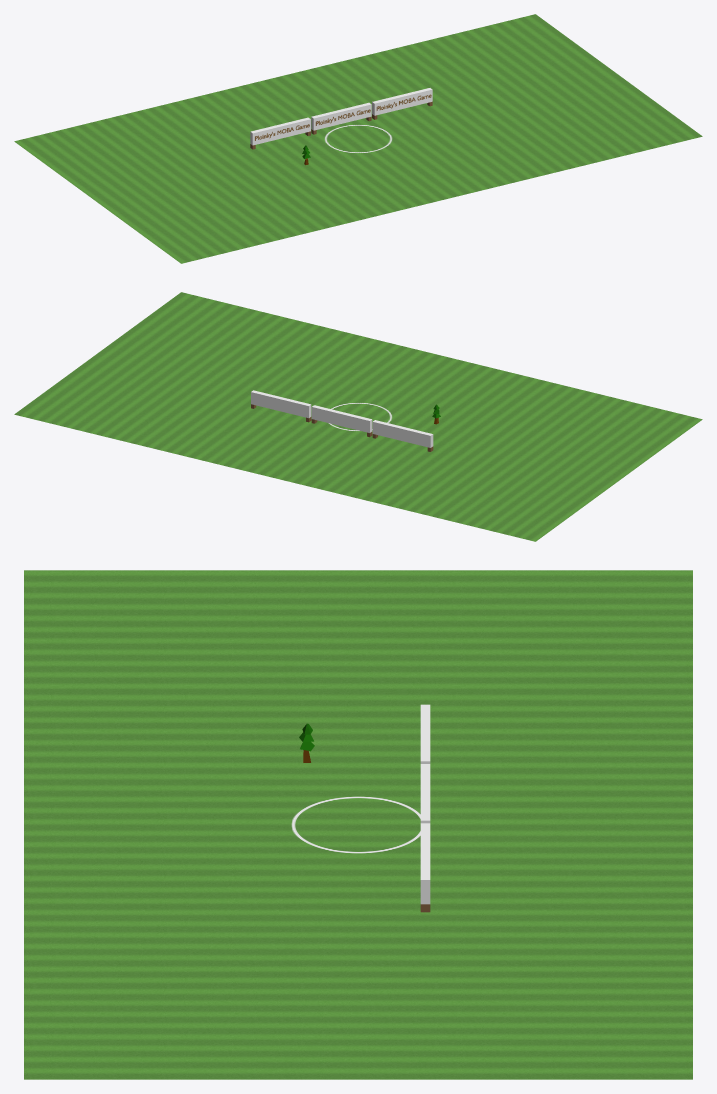
File: map1.glb
3 views of the same model, one above another, from view 1: azimuth 30°, elevation 25°; view 2: azimuth 150°, elevation 25°; view 3: azimuth 270°, elevation 25° (orthographic). The views are drawn at different scales.
Parts seen in each view (by area): view 1: Plane.011, Plane.015, Plane.024, Plane.026, Plane.030, Plane.037, Plane.041, Plane.006, Plane.007, Plane.014, Plane.016, Plane.018 (+36 smaller); view 2: Plane.014, Plane.019, Plane.023, Plane.027, Plane.030, Plane.035, Plane.041, Plane.007, Plane.008, Plane.011, Plane.015, Plane.016 (+36 smaller); view 3: Plane.007, Plane.017, Plane.021, Plane.006, Plane.008, Plane.025, Plane.026, Plane.027, Plane.030, Plane.031, Plane.032, Plane.035 (+34 smaller).
Boxes of the visible parts, bbox=[...] form: Plane.011: bbox=[230, 172, 321, 210]; Plane.015: bbox=[130, 99, 220, 137]; Plane.024: bbox=[496, 140, 586, 178]; Plane.026: bbox=[106, 137, 196, 175]; Plane.030: bbox=[81, 176, 171, 214]; Plane.037: bbox=[520, 102, 610, 140]; Plane.041: bbox=[545, 63, 635, 101]; Plane.006: bbox=[288, 158, 379, 196]; Plane.007: bbox=[346, 144, 436, 182]; Plane.014: bbox=[462, 116, 552, 154]; Plane.016: bbox=[188, 85, 278, 123]; Plane.018: bbox=[304, 56, 394, 94]; Plane.014: bbox=[230, 345, 321, 383]; Plane.019: bbox=[130, 418, 220, 456]; Plane.023: bbox=[496, 377, 586, 415]; Plane.027: bbox=[520, 415, 610, 453]; Plane.030: bbox=[545, 454, 635, 492]; Plane.035: bbox=[106, 380, 196, 418]; Plane.041: bbox=[81, 341, 171, 379]; Plane.007: bbox=[346, 373, 436, 411]; Plane.008: bbox=[288, 359, 379, 397]; Plane.011: bbox=[462, 401, 552, 439]; Plane.015: bbox=[362, 475, 452, 513]; Plane.016: bbox=[304, 461, 394, 499]; Plane.007: bbox=[157, 796, 291, 853]; Plane.017: bbox=[559, 796, 692, 853]; Plane.021: bbox=[24, 796, 157, 853]; Plane.006: bbox=[157, 740, 291, 796]; Plane.008: bbox=[157, 853, 291, 909]; Plane.025: bbox=[291, 627, 425, 683]; Plane.026: bbox=[425, 627, 559, 683]; Plane.027: bbox=[157, 627, 291, 683]; Plane.030: bbox=[291, 570, 425, 626]; Plane.031: bbox=[425, 570, 559, 626]; Plane.032: bbox=[157, 570, 291, 626]; Plane.035: bbox=[425, 966, 559, 1022].
Size of what is drawn, in the model's own units: 9000 by 322 by 5000.
4 materials, 4 textured.
